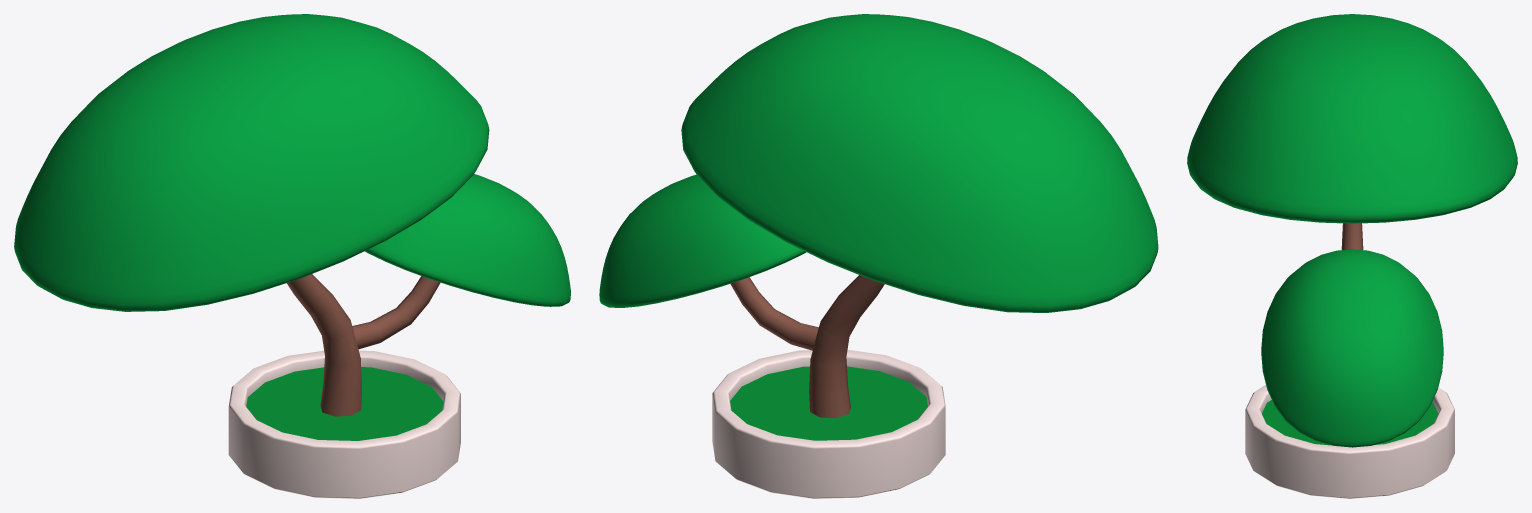
Rendered from Town_9_Bush_2.glb.
3 renders of one model, left to right at view 1: azimuth 30°, elevation 25°; view 2: azimuth 150°, elevation 25°; view 3: azimuth 270°, elevation 25°, orthographic. The views are drawn at different scales.
Visible parts, largest first — view 1: Town_9_Bush_2; view 2: Town_9_Bush_2; view 3: Town_9_Bush_2.
Part boxes in pixels (x1,y1,x2,y2): Town_9_Bush_2: (14, 14, 570, 498); Town_9_Bush_2: (599, 14, 1158, 498); Town_9_Bush_2: (1187, 14, 1517, 498).
Bounding box in the file's own units: 3.12 × 2.45 × 1.91.
1 material, 1 textured.
